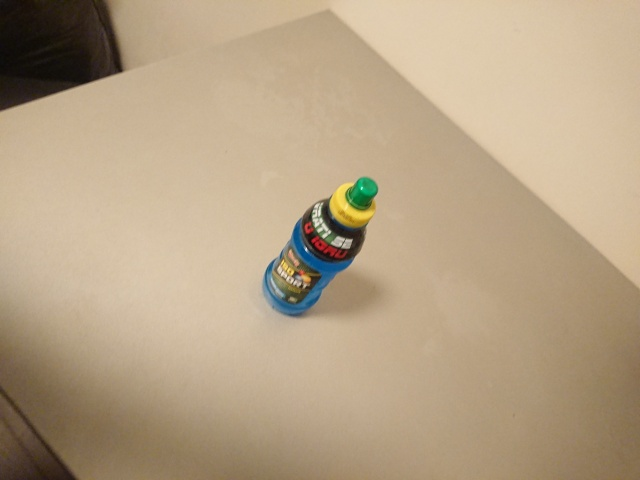Vindi Iso Sport Forest Strawberries 500mL: (259, 175, 380, 317)
